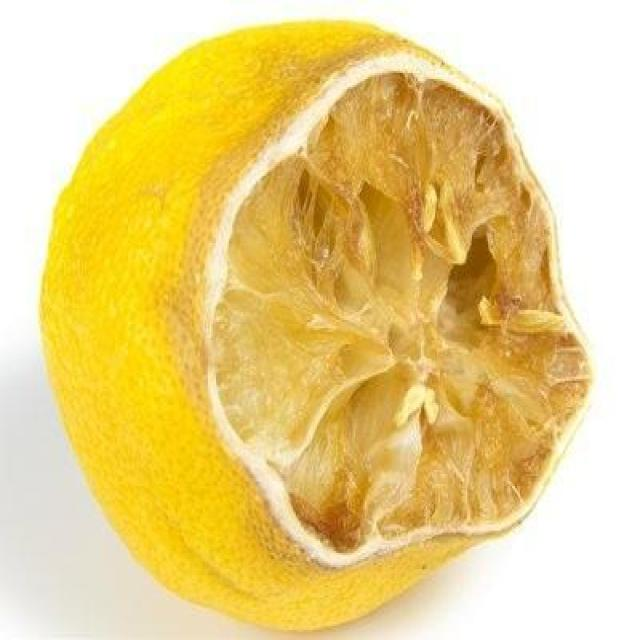organic: (37, 20, 597, 636)
